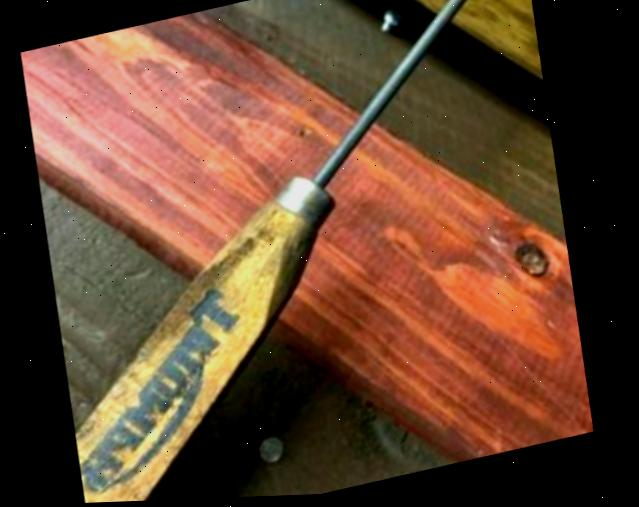ice pick: (1, 0, 616, 506)
